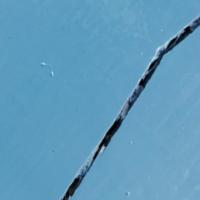crack: (59, 12, 199, 199)
